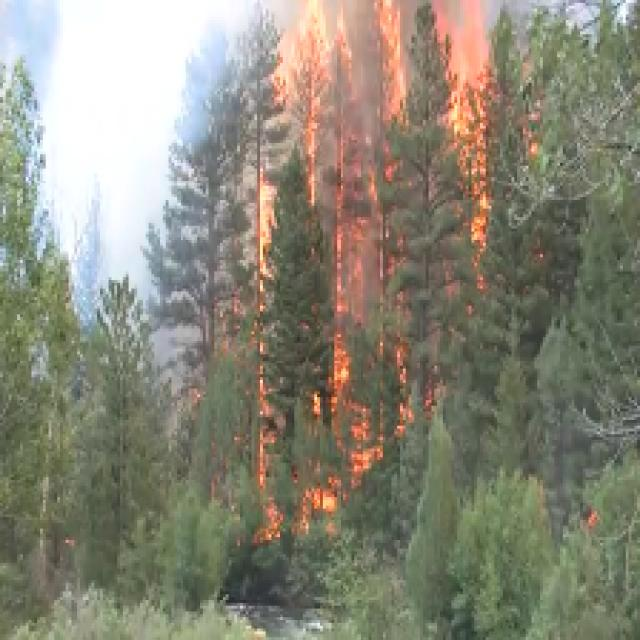fire: (289, 7, 488, 134), (464, 144, 494, 293), (253, 176, 276, 283), (330, 329, 351, 412), (350, 422, 379, 482), (297, 485, 340, 521)
